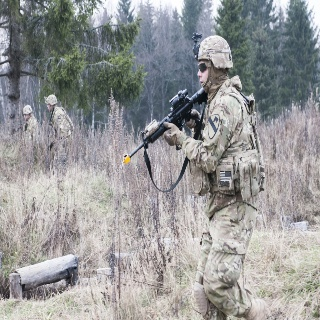rifle: (120, 84, 207, 166)
